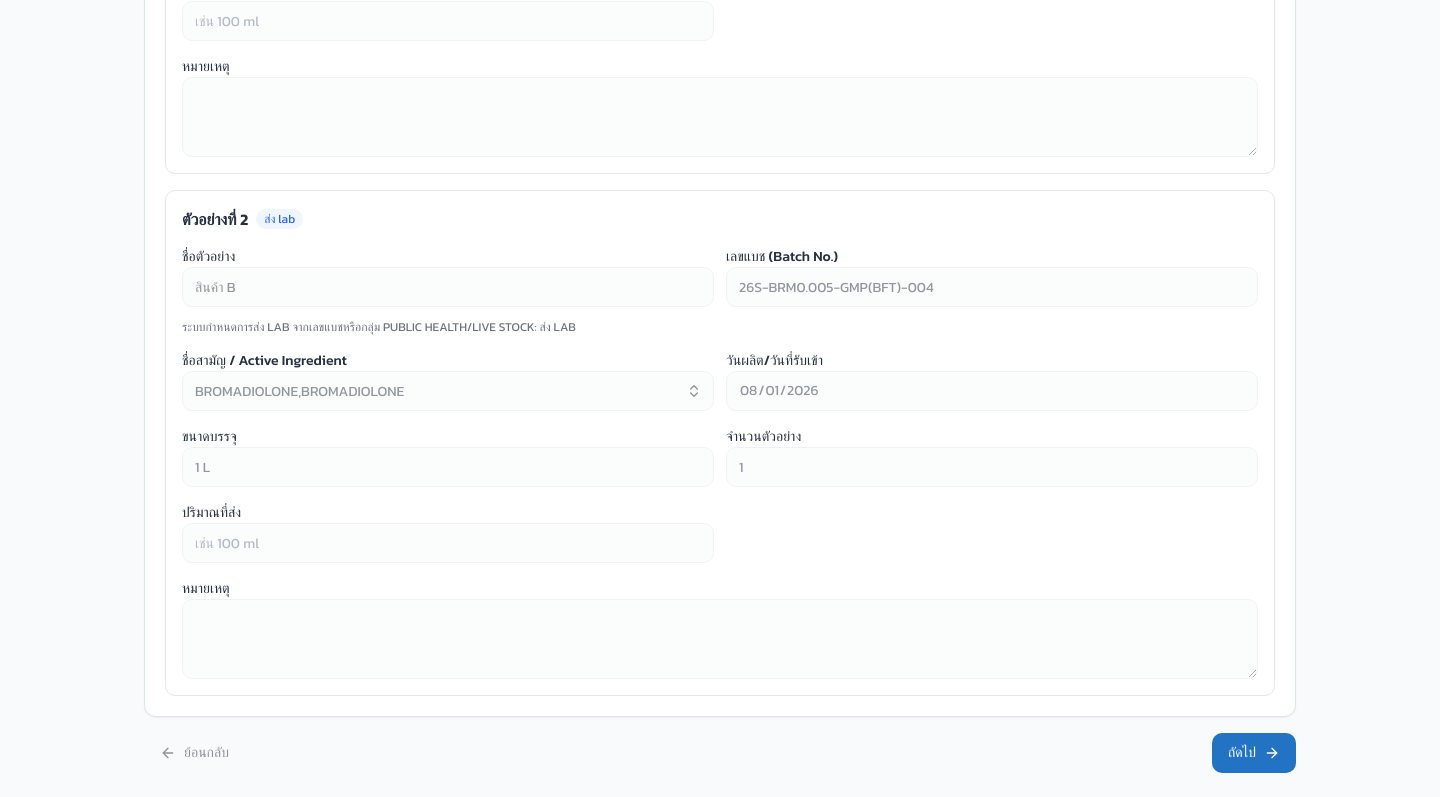
Test case: ProductionPetitionNewPage approval QR timing › continues to the Lab request with repeated production batch numbers
This screenshot has width=1440, height=797.
(page scrolled)
Click the button "ถัดไป".
click(1254, 753)  # box 1212,733 -> 1296,773
(page scrolled)
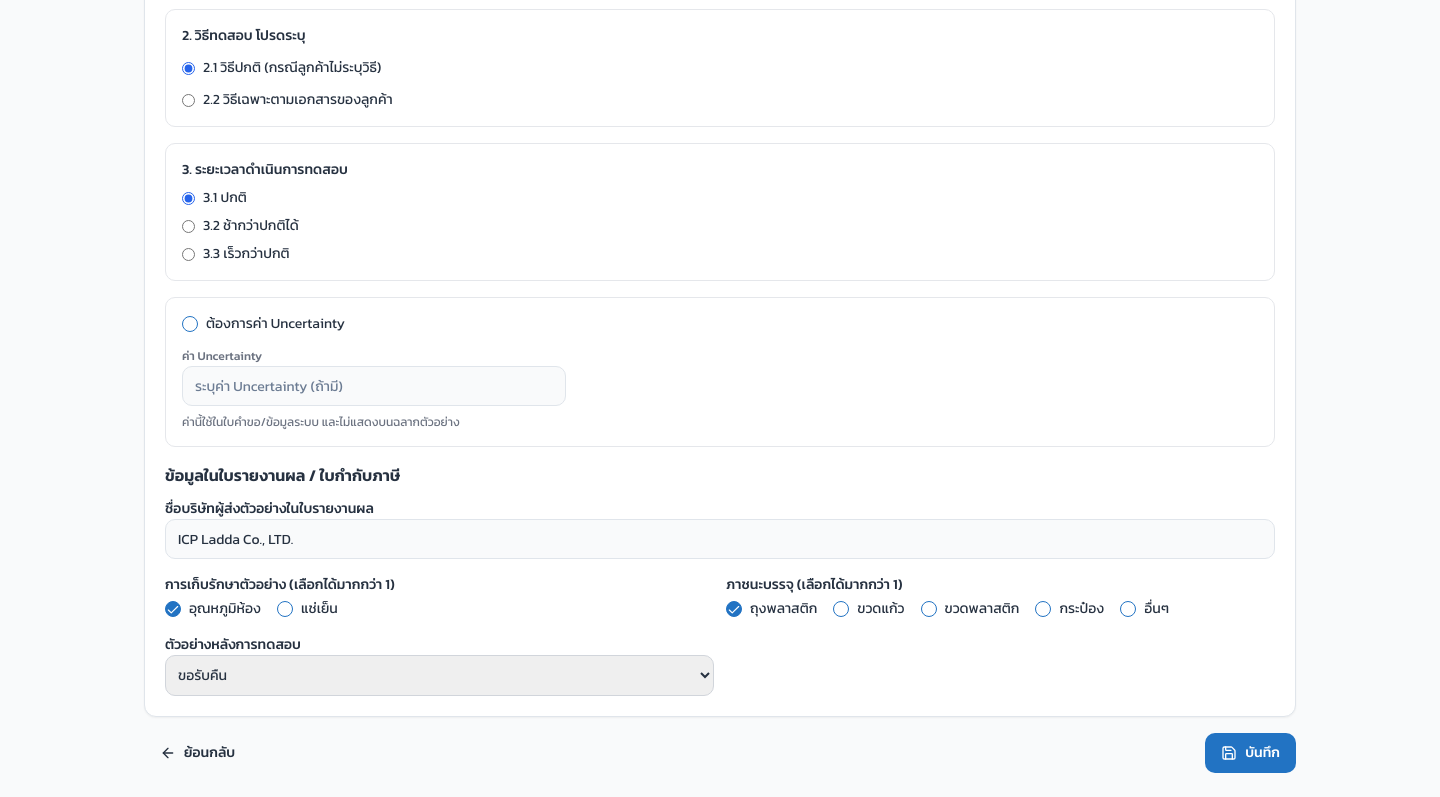
Result: the button "บันทึก" is shown at 1205,733 -> 1296,773
